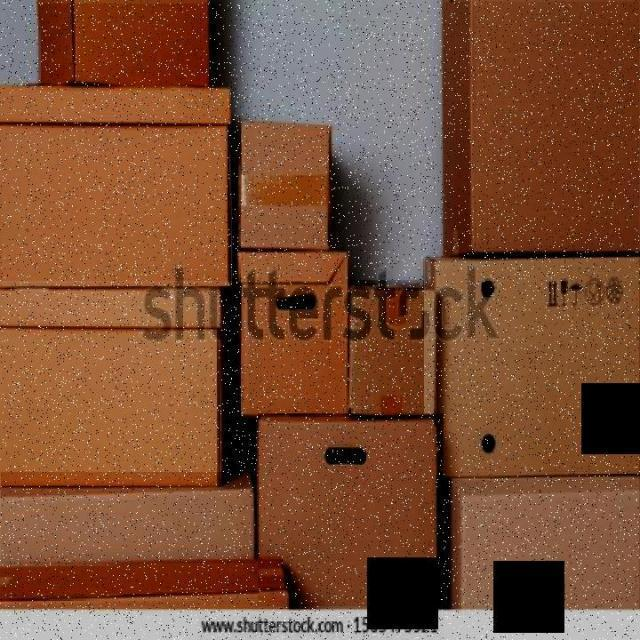box: (0, 281, 234, 500), (0, 82, 240, 292), (443, 2, 639, 255), (424, 258, 639, 482), (257, 413, 443, 608), (449, 480, 639, 609), (1, 472, 256, 565), (235, 247, 345, 427), (36, 4, 216, 90), (232, 119, 342, 253), (350, 280, 440, 419)
